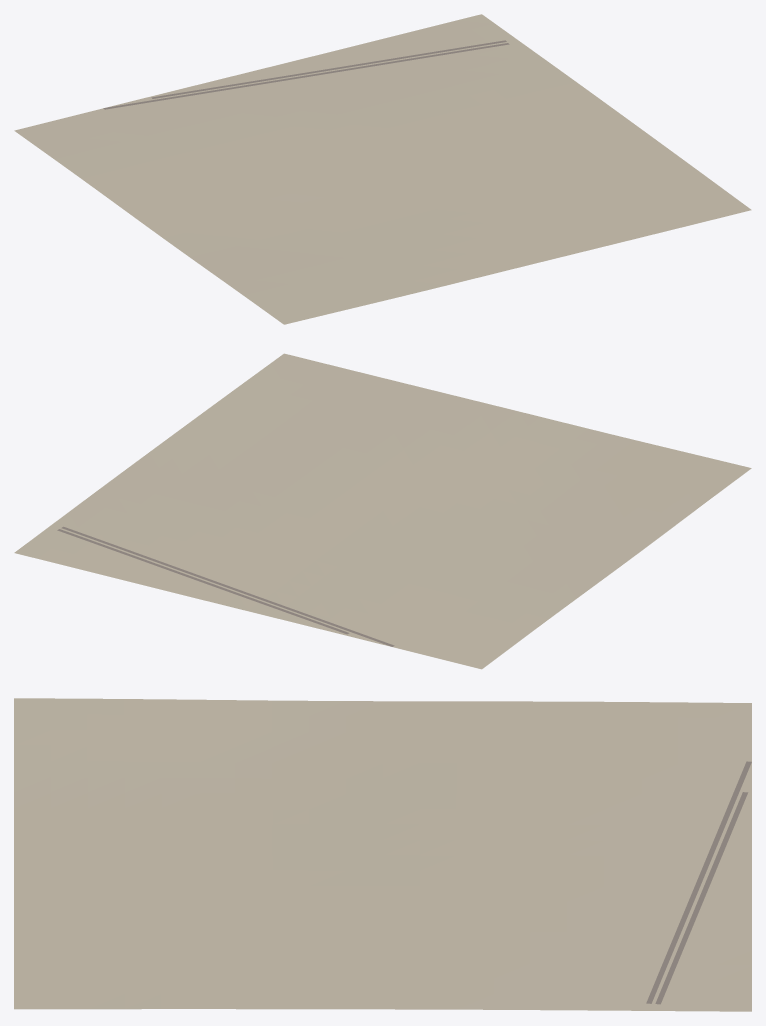
The model's file is bolak_-35_-13.glb.
3 renders of one model, top to bottom at view 1: azimuth 30°, elevation 25°; view 2: azimuth 150°, elevation 25°; view 3: azimuth 270°, elevation 25°, orthographic. The views are drawn at different scales.
Parts seen in each view (by area): view 1: Yer_Tuproq-col, Temir_Yol; view 2: Yer_Tuproq-col, Temir_Yol; view 3: Yer_Tuproq-col, Temir_Yol.
Part boxes in pixels (x1,y1,x2,y2): Yer_Tuproq-col: (14,14,751,324); Temir_Yol: (103,40,509,109); Yer_Tuproq-col: (14,353,751,669); Temir_Yol: (57,526,394,646); Yer_Tuproq-col: (14,698,751,1011); Temir_Yol: (646,761,751,1004).
Bounding box in the file's own units: 400 × 3.46 × 400.
